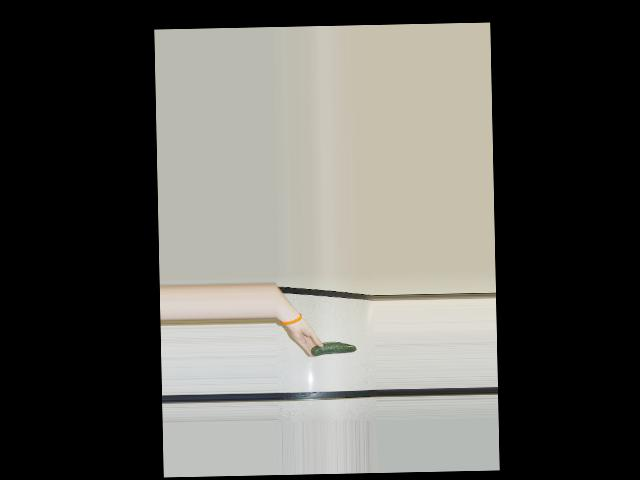cucumber: (310, 342, 357, 356)
